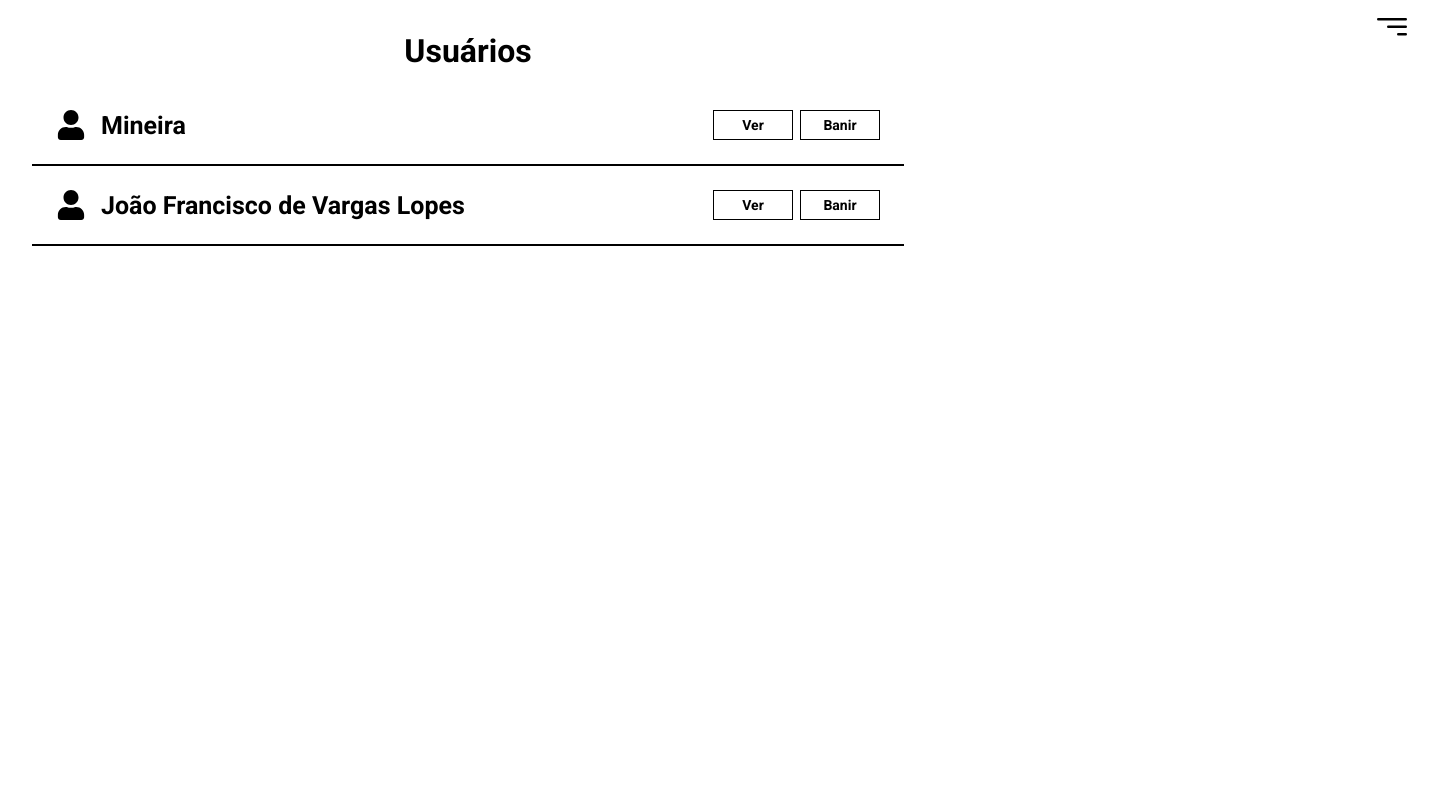
Test case: Users › Close warning ban
Click the button "Banir" in the row of "Mineira". click: (840, 125)
box: [800,110,880,140]
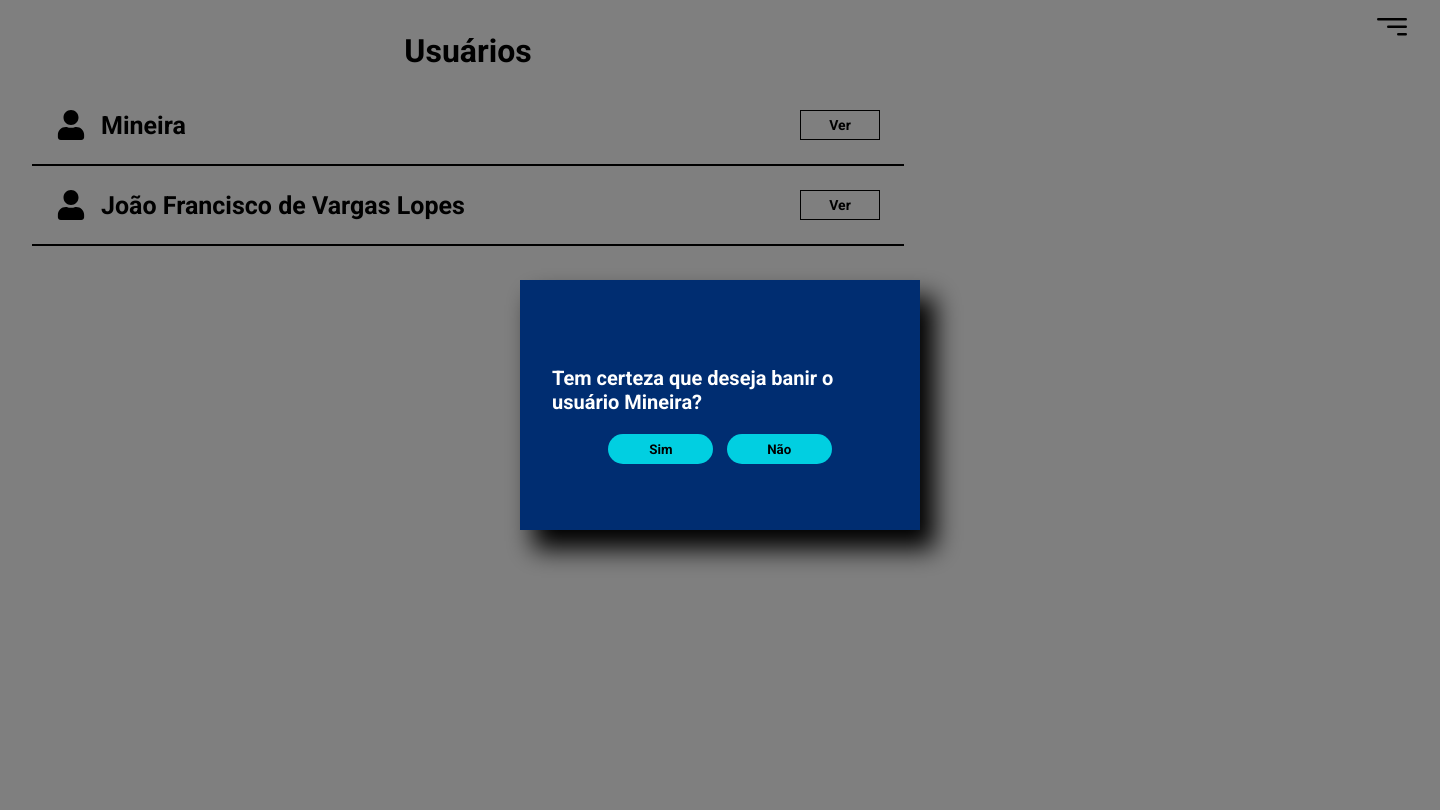
expect the text "Tem certeza que deseja banir o usuário Mineira?" is shown: met, box [552,366,833,414]
expect the button "Sim" is shown: met, box [608,434,713,464]
expect the button "Não" is shown: met
Click the button "Não". click: (779, 449)
box: [727,434,832,464]
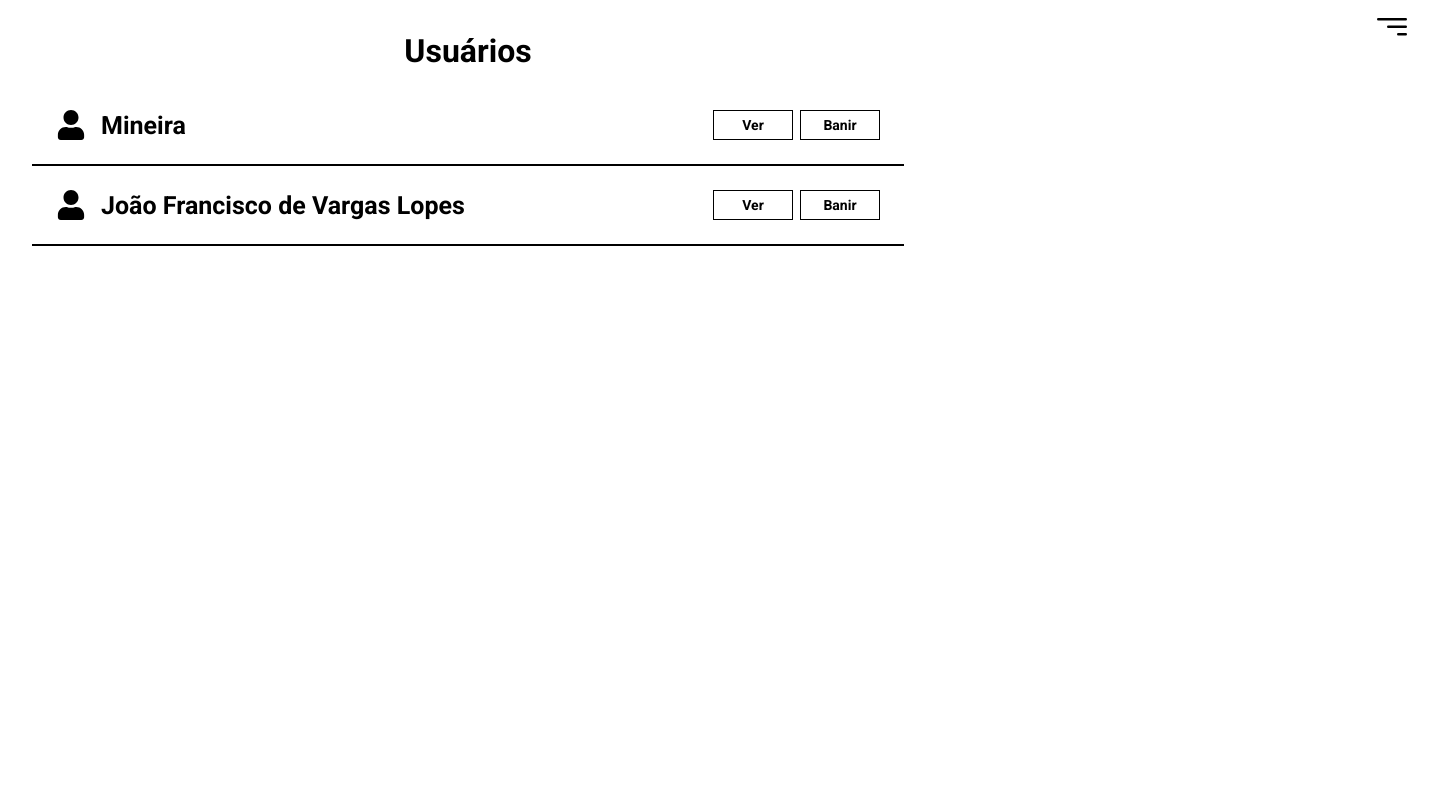
expect the text "Tem certeza que deseja banir o usuário Mineira?" is gone: met
